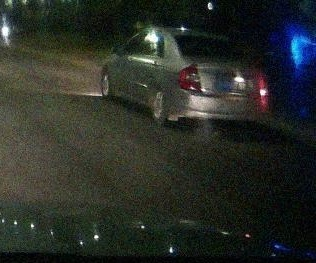L_light: (178, 64, 202, 91)
R_light: (254, 72, 268, 97)
T_light: (201, 36, 217, 41)
night-right: (172, 27, 268, 130)
